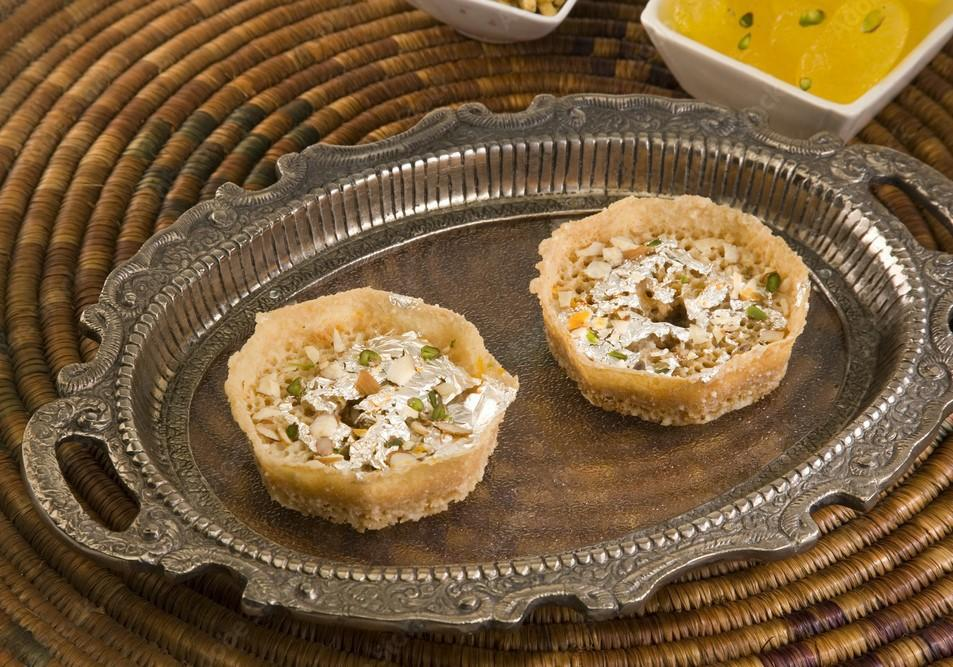Ghevar: (224, 283, 522, 536), (531, 192, 814, 427)
